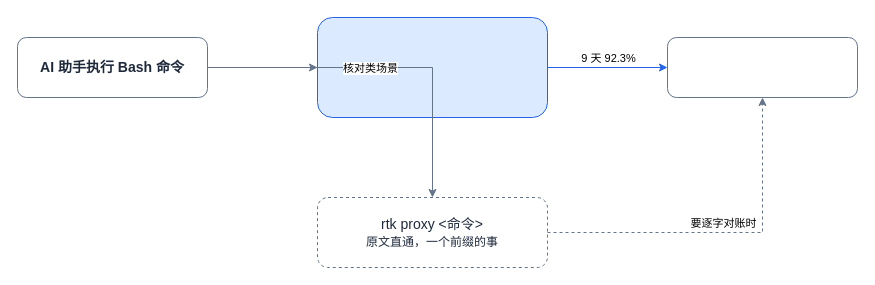
Some shapes in this 875 by 285 pixel diagram are drawn without their labels. Here are the shapes that lost their labels. From the top down, the box of each, then its label:
(316, 16, 548, 118): rtk 过滤器 ls / grep / 读文件 裁剪 · 分组 · 截断
(666, 36, 858, 98): 模型上下文窗口
